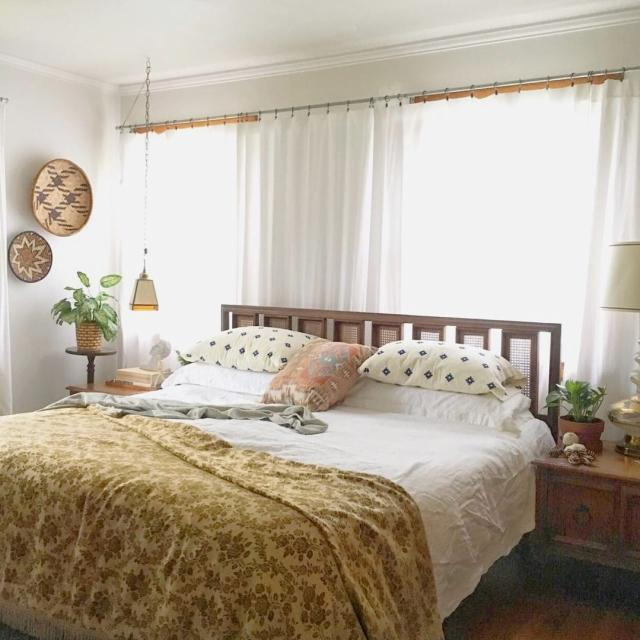bed: (0, 314, 543, 603)
